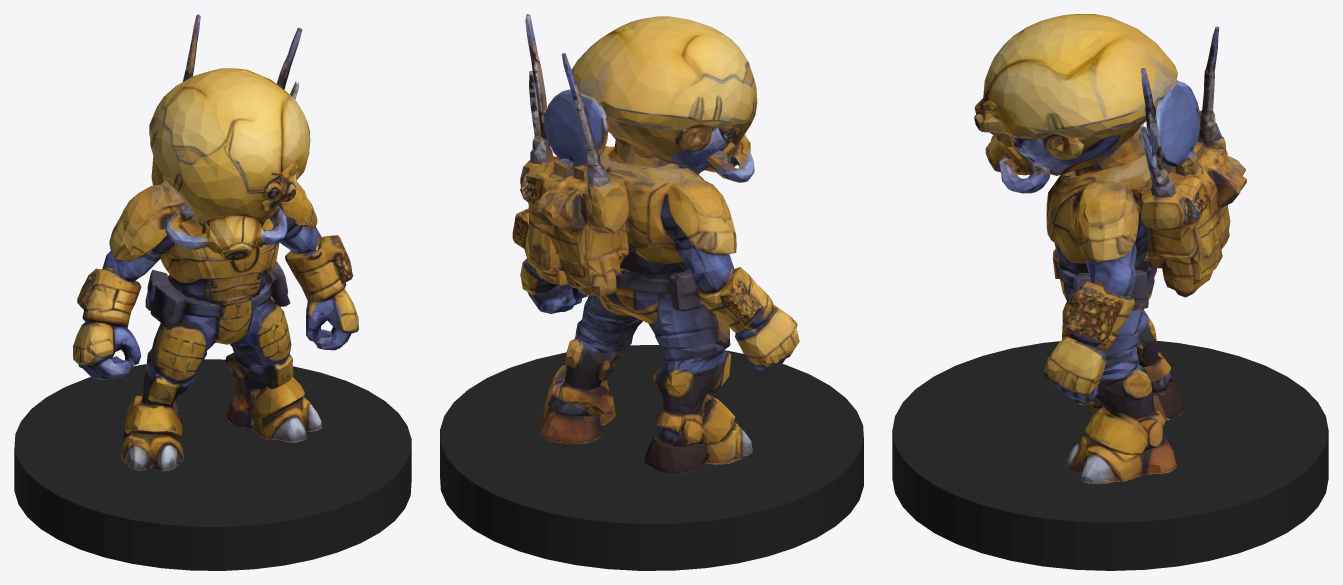
File: pf-transpectral-interference.glb
The picture shows the model from 3 angles, left to right: view 1: azimuth 30°, elevation 25°; view 2: azimuth 150°, elevation 25°; view 3: azimuth 270°, elevation 25°; orthographic projection. The views are drawn at different scales.
Parts seen in each view (by area): view 1: figure, base; view 2: figure, base; view 3: figure, base.
Part boxes in pixels (bbox=[...]): figure: bbox=[73, 14, 358, 471]; base: bbox=[14, 359, 411, 570]; figure: bbox=[512, 14, 799, 474]; base: bbox=[440, 345, 863, 570]; figure: bbox=[974, 14, 1246, 484]; base: bbox=[892, 341, 1328, 570].
Size of the model in its own units: 0.9843 by 1.17 by 0.9843.
Materials: 2 (1 with a texture image).
